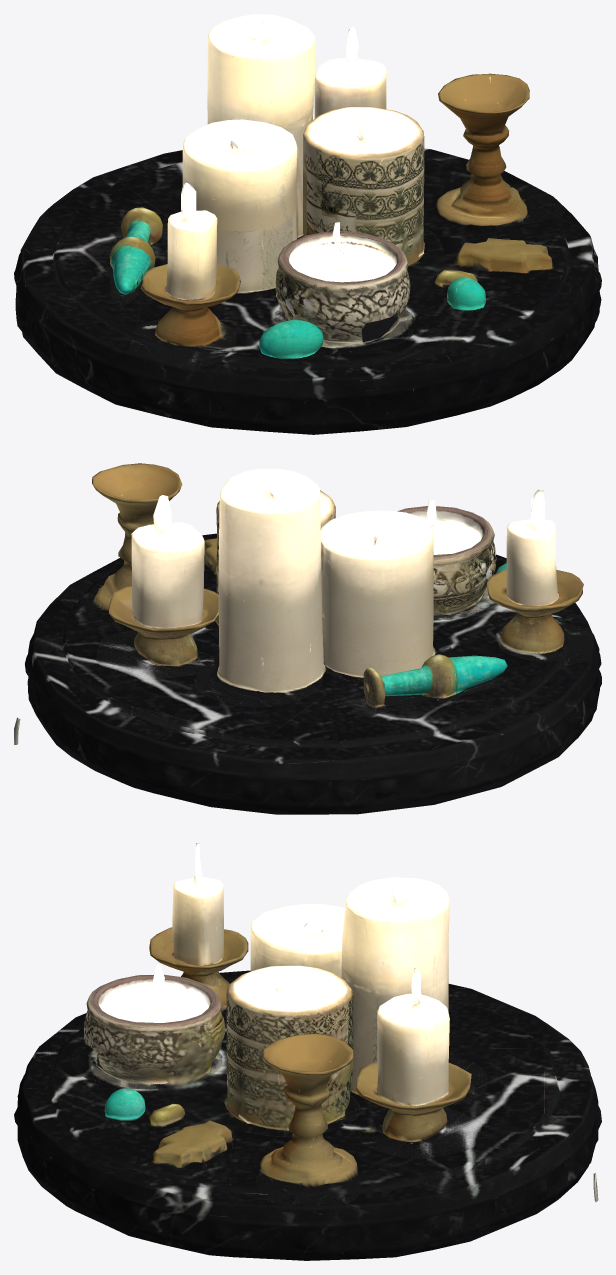
Rendered from alderamontico-votive-candle.glb.
3 views of the same model, one above another, from view 1: azimuth 30°, elevation 25°; view 2: azimuth 150°, elevation 25°; view 3: azimuth 270°, elevation 25° (orthographic). The views are drawn at different scales.
Size of the model in its own units: 1.91 by 0.9119 by 1.91.
1 material, 1 textured.
